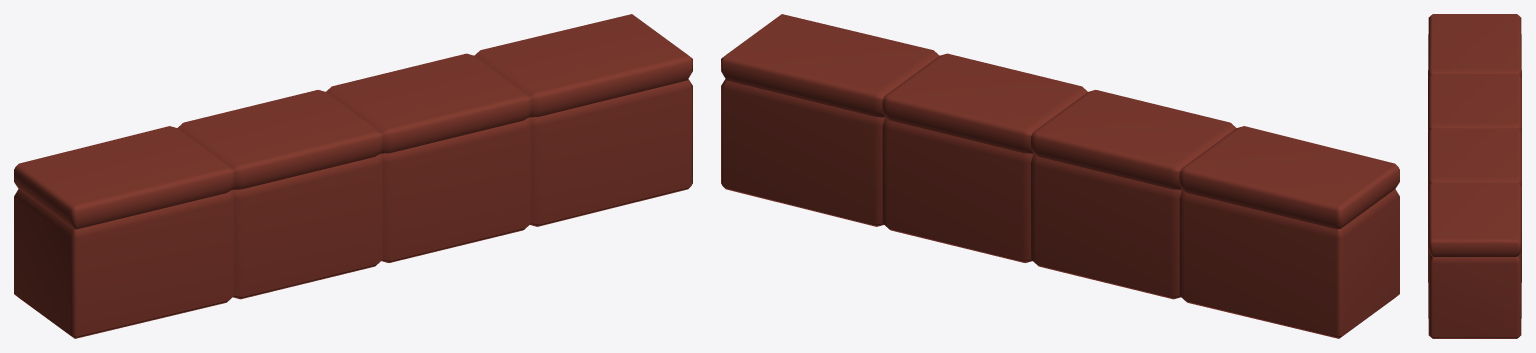
File: fence_001.fbx
The picture shows the model from 3 angles, left to right: view 1: azimuth 30°, elevation 25°; view 2: azimuth 150°, elevation 25°; view 3: azimuth 270°, elevation 25°; orthographic projection. The views are drawn at different scales.
Visible parts, largest first — view 1: fence_001; view 2: fence_001; view 3: fence_001.
Boxes of the visible parts, x1,y1,x2,y2 form: fence_001: [14, 14, 692, 338]; fence_001: [721, 14, 1399, 338]; fence_001: [1428, 14, 1521, 338].
Bounding box in the file's own units: 419 × 72.94 × 86.97.
